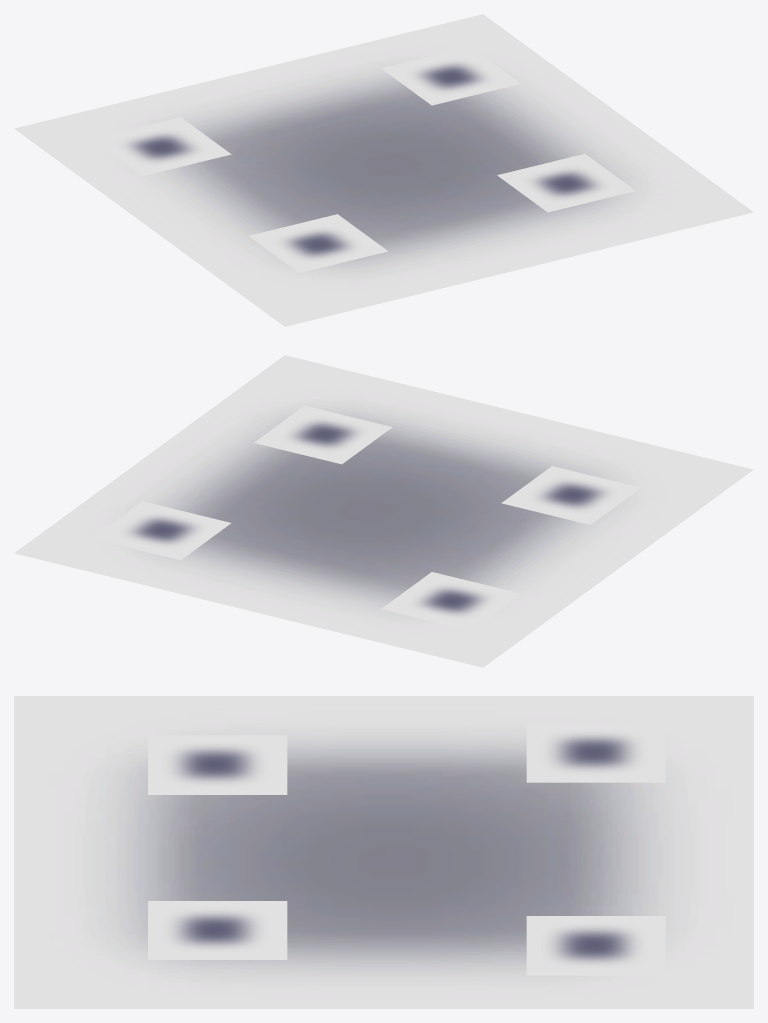
The model's file is s4studio_mesh_0.fbx.
The picture shows the model from 3 angles, top to bottom: view 1: azimuth 30°, elevation 25°; view 2: azimuth 150°, elevation 25°; view 3: azimuth 270°, elevation 25°; orthographic projection. The views are drawn at different scales.
Visible parts, largest first — view 1: s4studio_mesh_0.001; view 2: s4studio_mesh_0.001; view 3: s4studio_mesh_0.001.
Boxes of the visible parts, x1,y1,x2,y2 form: s4studio_mesh_0.001: (14, 14, 753, 326); s4studio_mesh_0.001: (14, 355, 753, 667); s4studio_mesh_0.001: (14, 696, 753, 1008).
Bounding box in the file's own units: 0.8532 × 0.00391 × 0.8532.
Materials: 1 (1 with a texture image).
